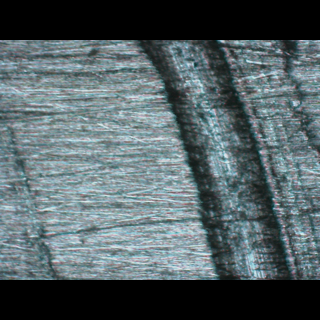d: (127, 39, 320, 279)
